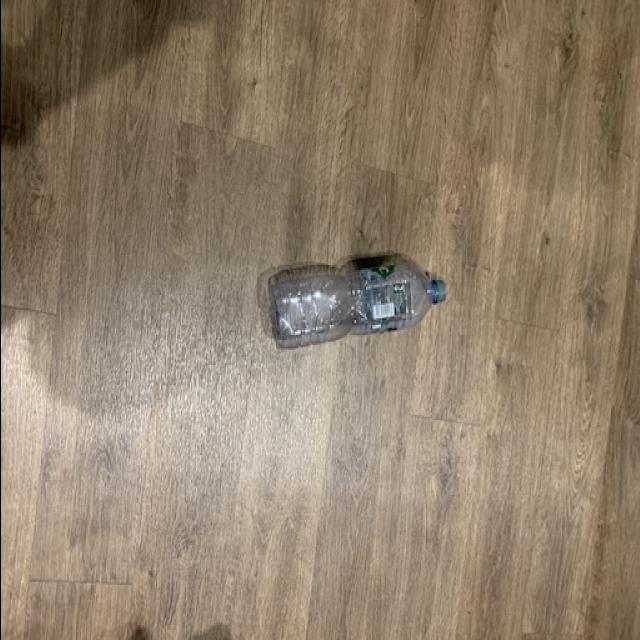litter: (266, 250, 448, 345)
